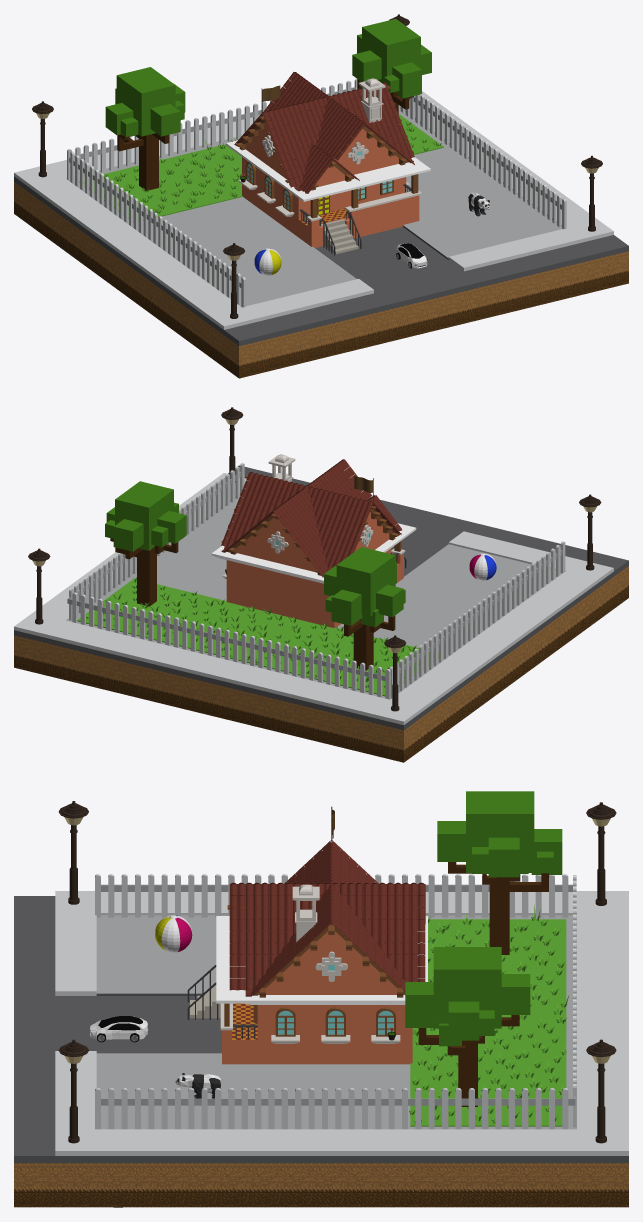
3 views of the same model, one above another, from view 1: azimuth 30°, elevation 25°; view 2: azimuth 150°, elevation 25°; view 3: azimuth 270°, elevation 25° (orthographic). The views are drawn at different scales.
Visible parts, largest first — view 1: Cube.004, Cube.1141, OBJRANDOM_BEACHBALL, VEHICLES_TESLA; view 2: Cube.004, Cube.1141, OBJRANDOM_BEACHBALL; view 3: Cube.004, Cube.1141, VEHICLES_TESLA, OBJRANDOM_BEACHBALL, ANIMAL_PANDA.
Part boxes in pixels (x1,y1,x2,y2): Cube.004: [14, 14, 628, 378]; Cube.1141: [226, 72, 430, 255]; OBJRANDOM_BEACHBALL: [254, 248, 281, 275]; VEHICLES_TESLA: [396, 243, 427, 268]; Cube.004: [14, 407, 628, 762]; Cube.1141: [211, 454, 416, 627]; OBJRANDOM_BEACHBALL: [469, 553, 496, 580]; Cube.004: [14, 791, 628, 1207]; Cube.1141: [187, 806, 427, 1064]; VEHICLES_TESLA: [90, 1016, 148, 1042]; OBJRANDOM_BEACHBALL: [155, 915, 192, 952]; ANIMAL_PANDA: [175, 1073, 221, 1098].
Size of the model in its own units: 4000 by 1728 by 4000.
Materials: 36 (3 with a texture image).
